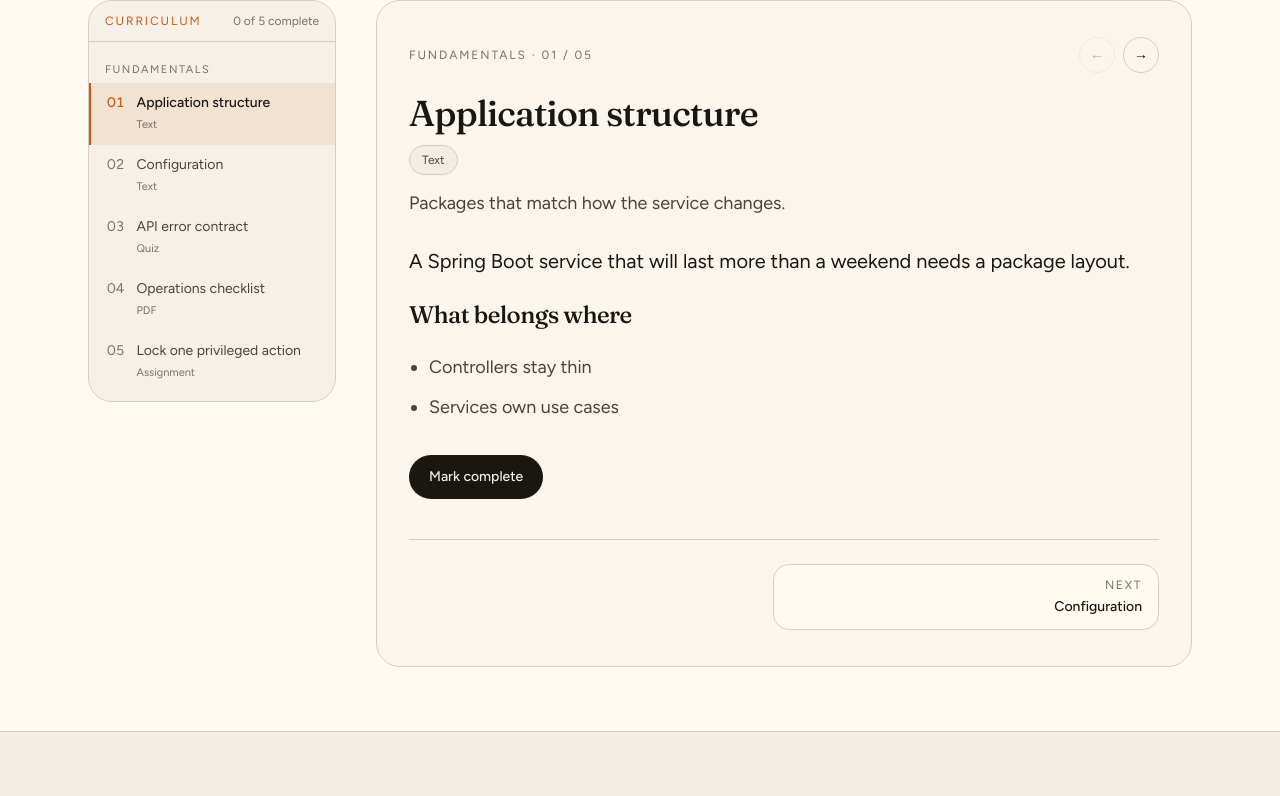
Scenario: CoursesPage › renders quiz, PDF, assignment, and rich text when the student can read lessons
(page scrolled)
Expected: the heading "What belongs where" is shown, [409, 300, 632, 329]
Expected: the text "Controllers stay thin" is shown, [429, 356, 592, 378]
Step 1. Click the link "03 API error contract Quiz" → click(178, 236), box [107, 218, 248, 254]
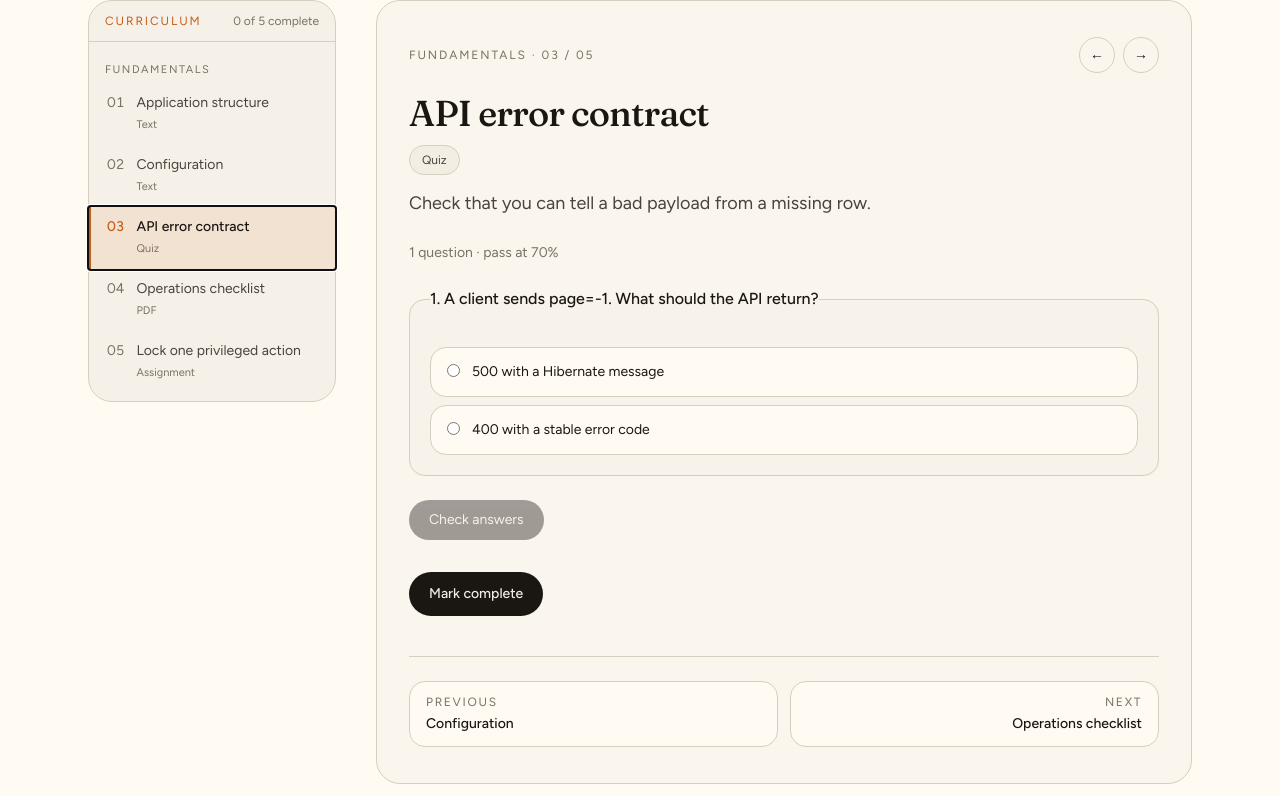
Step 2. Click the radio button labelled "400 with a stable error code" → click(454, 428), box [447, 422, 460, 435]
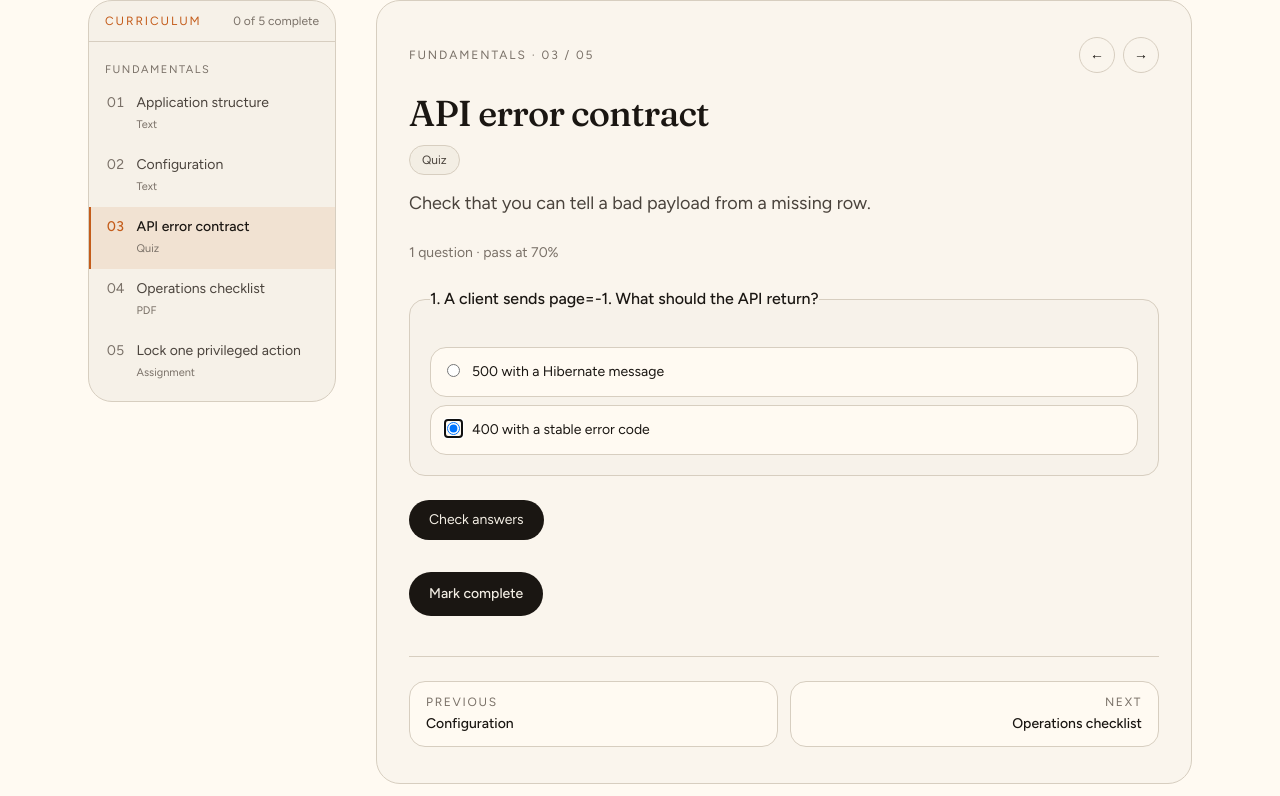
Step 3. Click the button "Check answers" → click(476, 520), box [409, 500, 544, 540]
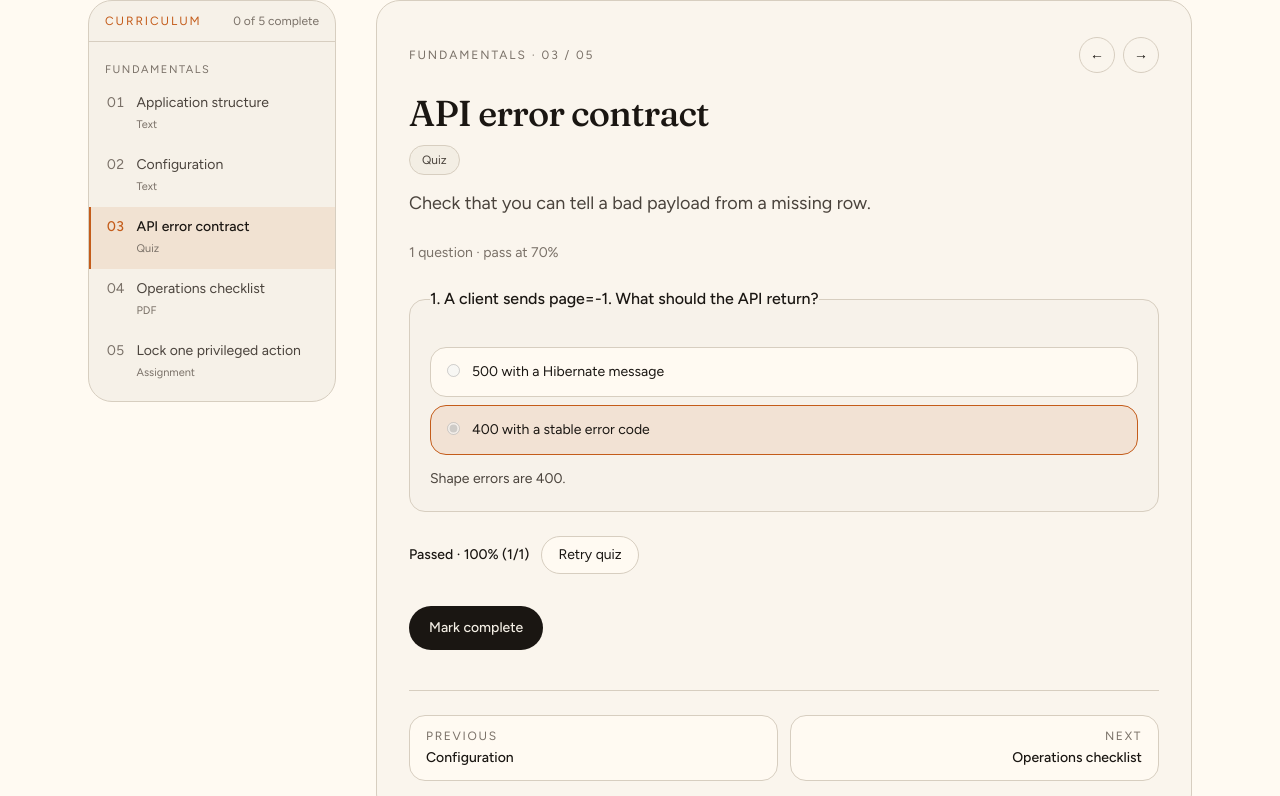
Expected: the message shows "Passed", [409, 546, 453, 563]
Step 4. Click the link "04 Operations checklist PDF" → click(186, 298), box [107, 280, 265, 316]
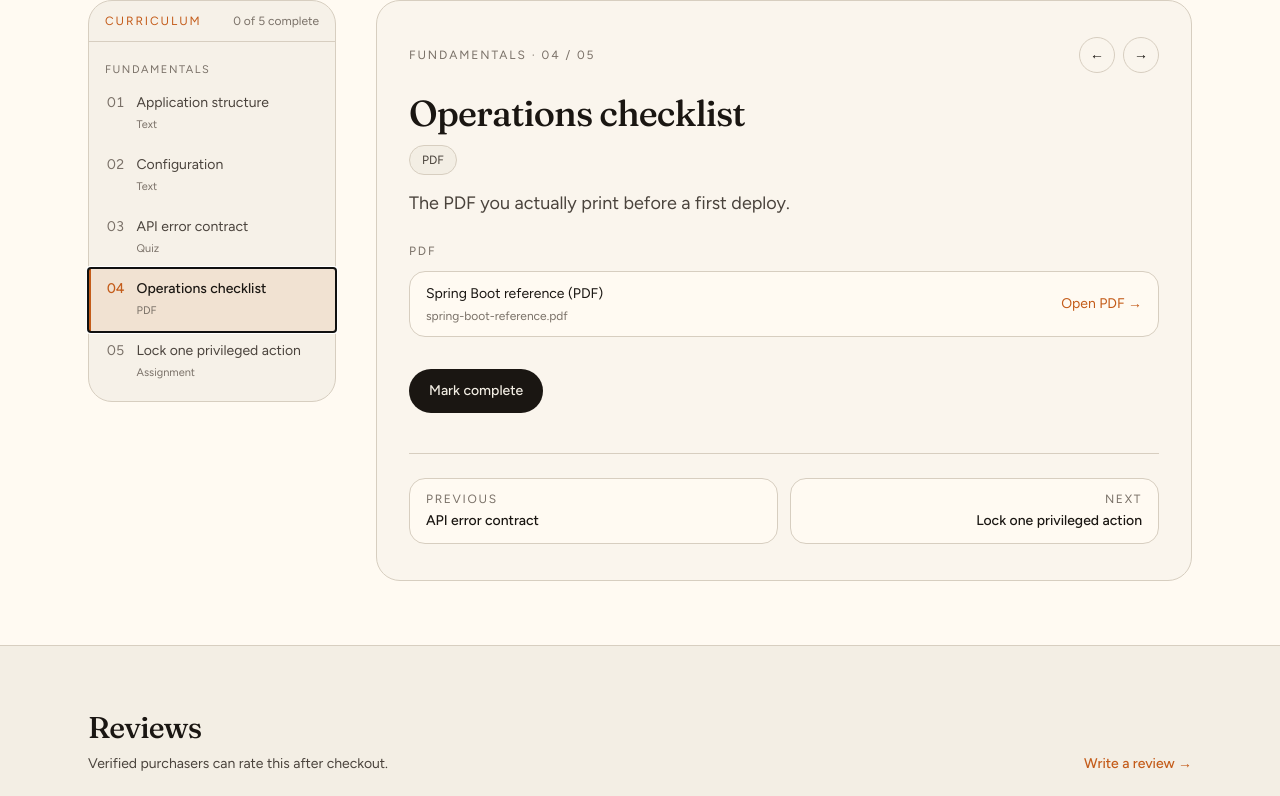
Step 5. Click the link "05 Lock one privileged action Assignment" → click(204, 360), box [107, 342, 301, 378]
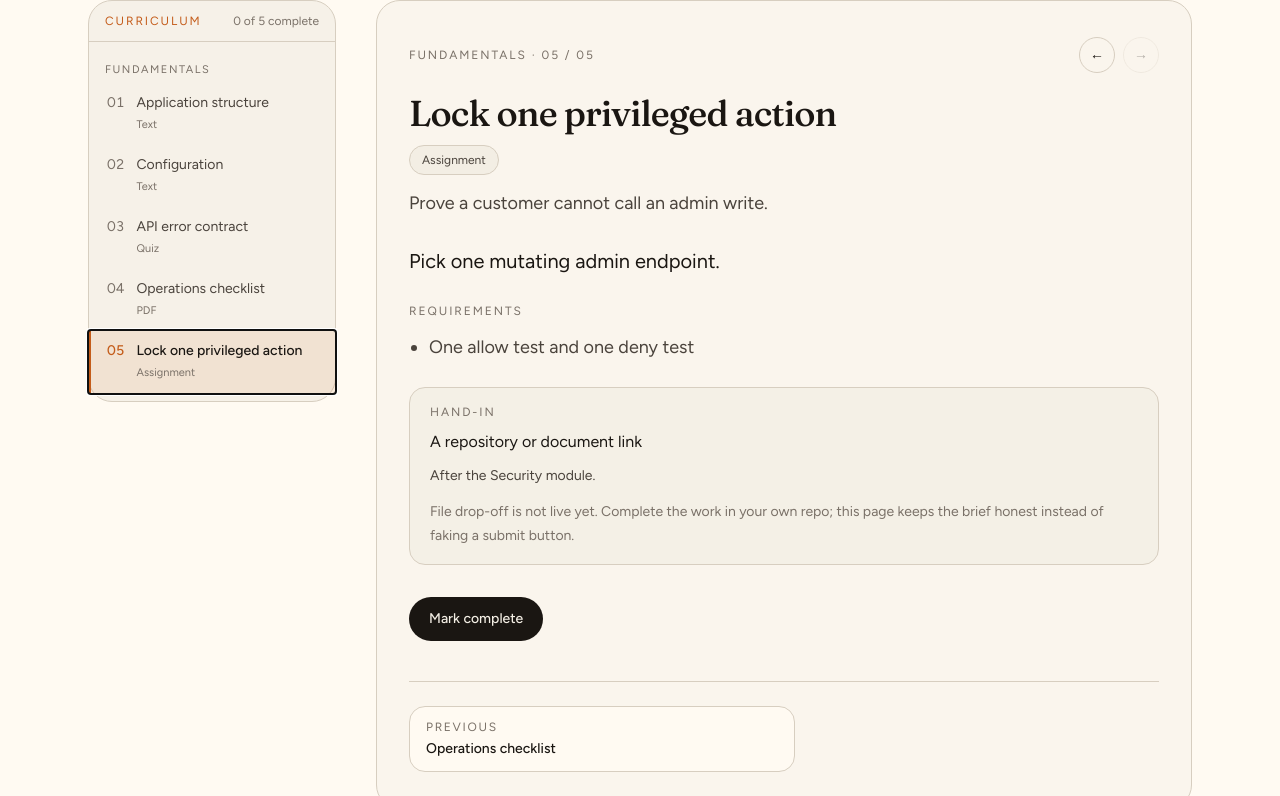
Expected: the list item "One allow test and one deny test" is shown, [429, 336, 694, 358]
Expected: the text "File drop-off is not live yet" is shown, [430, 503, 1104, 544]
